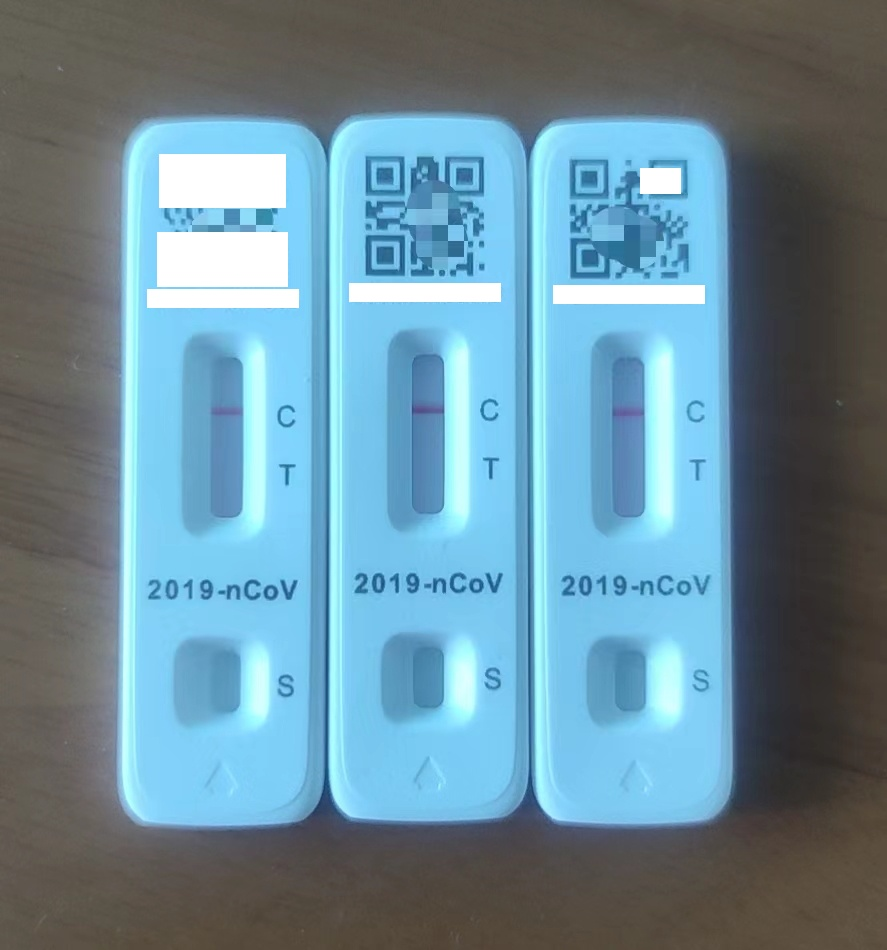negative: (587, 328, 668, 553), (385, 328, 466, 545), (179, 337, 260, 545)
